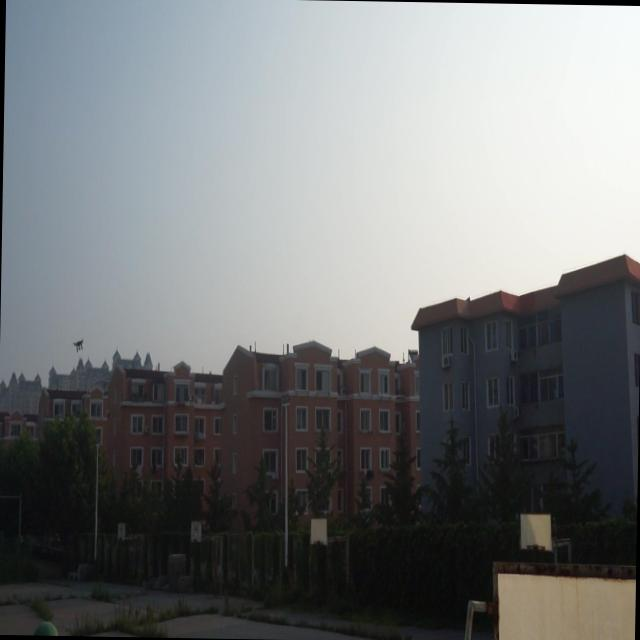drone: (72, 334, 86, 354)
